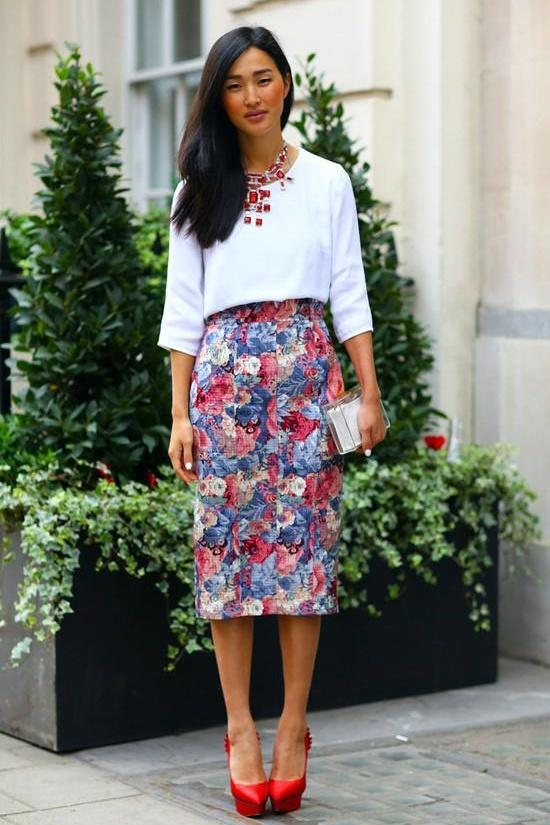Tshirt: (156, 145, 374, 358)
skirt: (188, 299, 346, 621)
